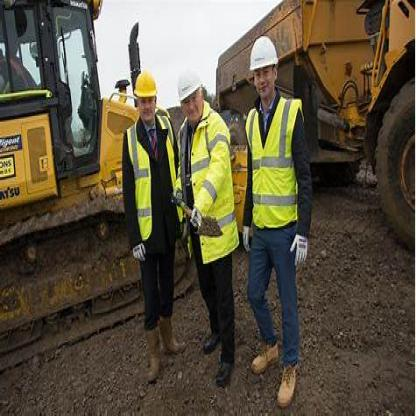person: (243, 22, 324, 403), (180, 53, 247, 392), (116, 62, 180, 384)
